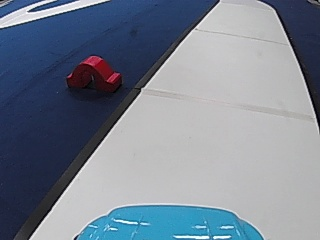bridge: (64, 52, 125, 94)
